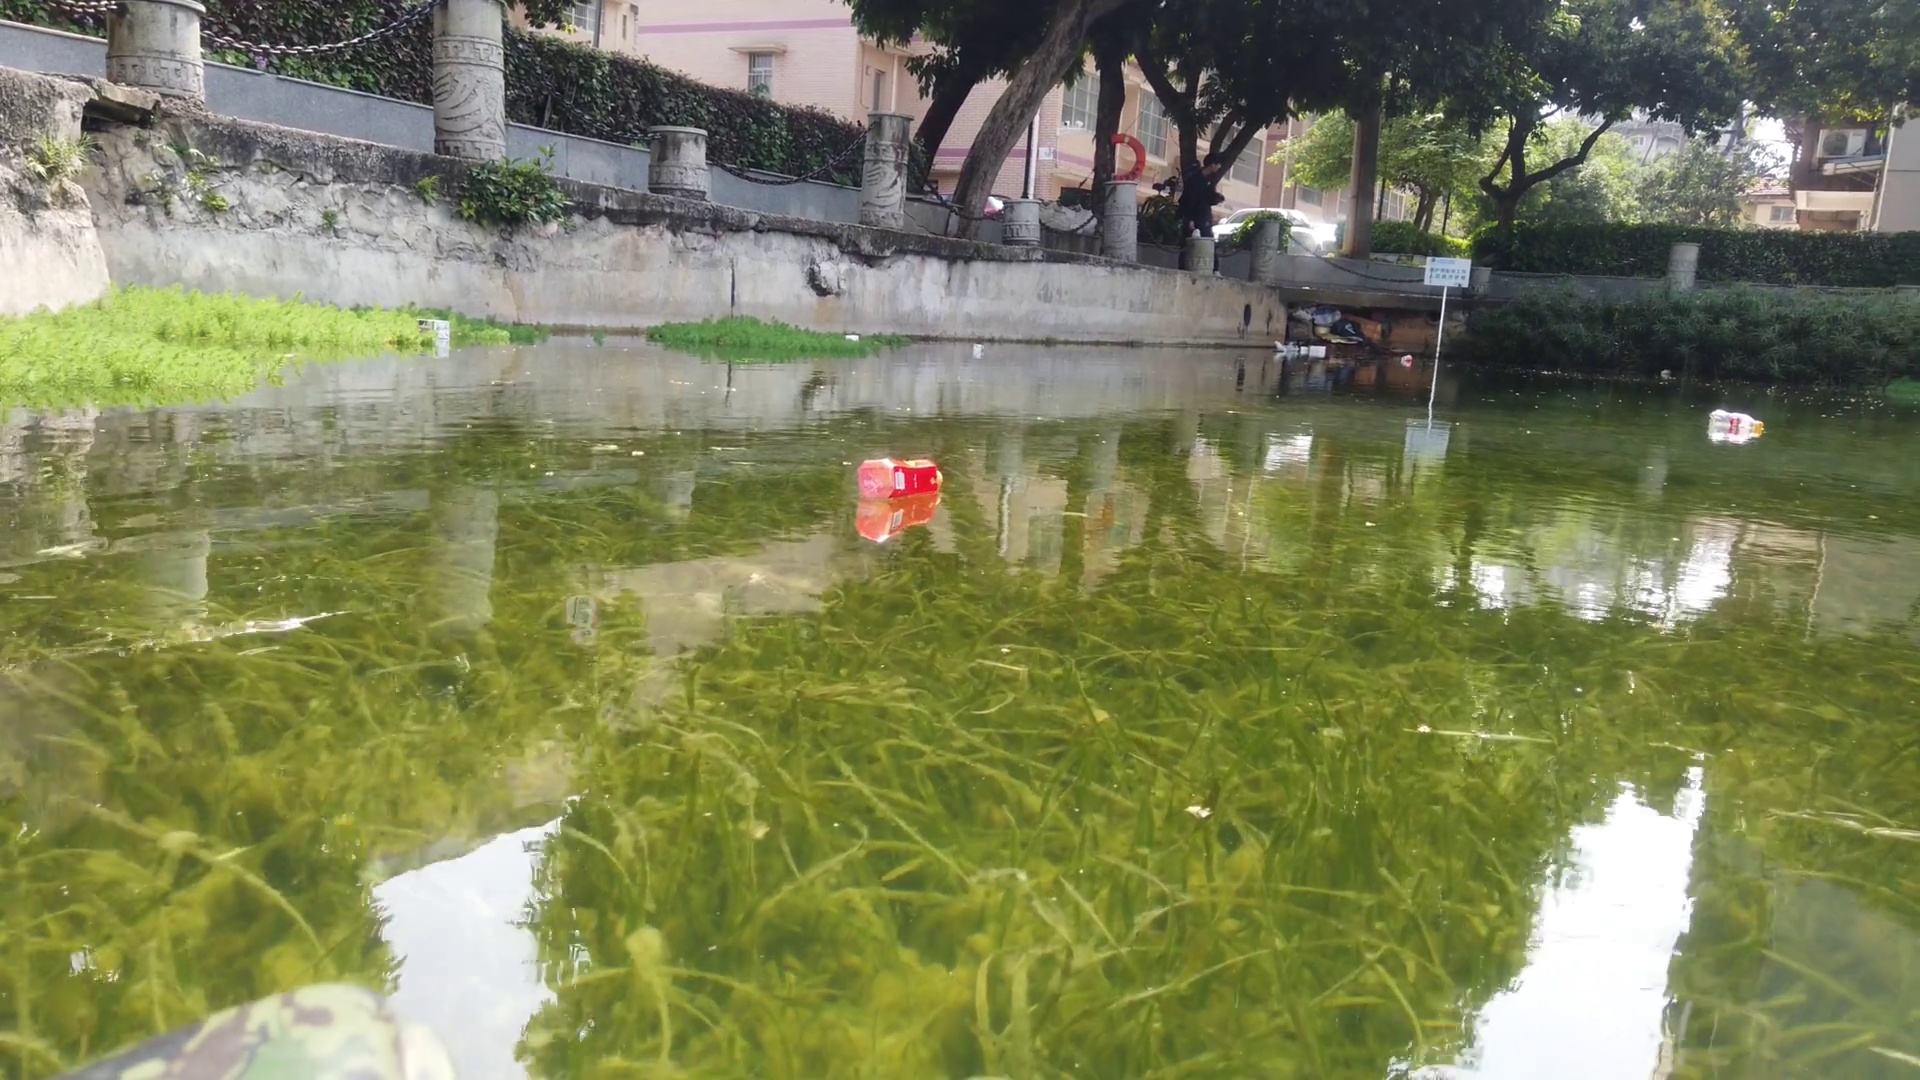bottle: (855, 458, 945, 496), (1704, 407, 1764, 433), (1400, 352, 1412, 363), (1658, 367, 1673, 375)
carton: (414, 316, 455, 335), (843, 334, 864, 345), (1309, 344, 1327, 355), (972, 340, 985, 351), (1298, 347, 1309, 355)
plastic: (1274, 340, 1296, 352)
